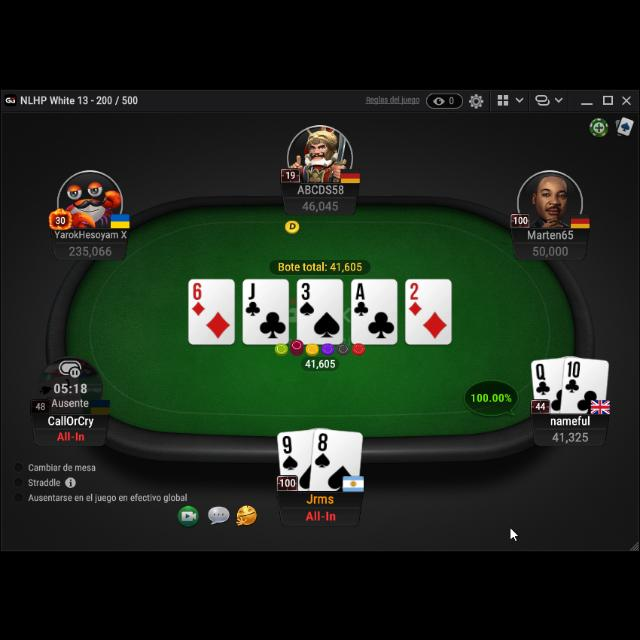2d: (408, 278, 422, 314)
3s: (298, 278, 314, 314)
6d: (190, 280, 206, 314)
8s: (314, 428, 332, 468)
9s: (281, 430, 301, 470)
Ac: (352, 278, 370, 316)
Jc: (244, 278, 262, 316)
Qc: (535, 360, 553, 396)
Tc: (564, 358, 582, 392)
all_in_symbol: (304, 504, 338, 520), (56, 428, 85, 440)
bet_text: (304, 354, 338, 368)
dealer: (285, 217, 301, 233)
pot_text: (276, 258, 364, 270)
stack_text: (69, 241, 113, 255), (551, 428, 589, 442), (301, 196, 339, 210), (531, 242, 569, 256)
